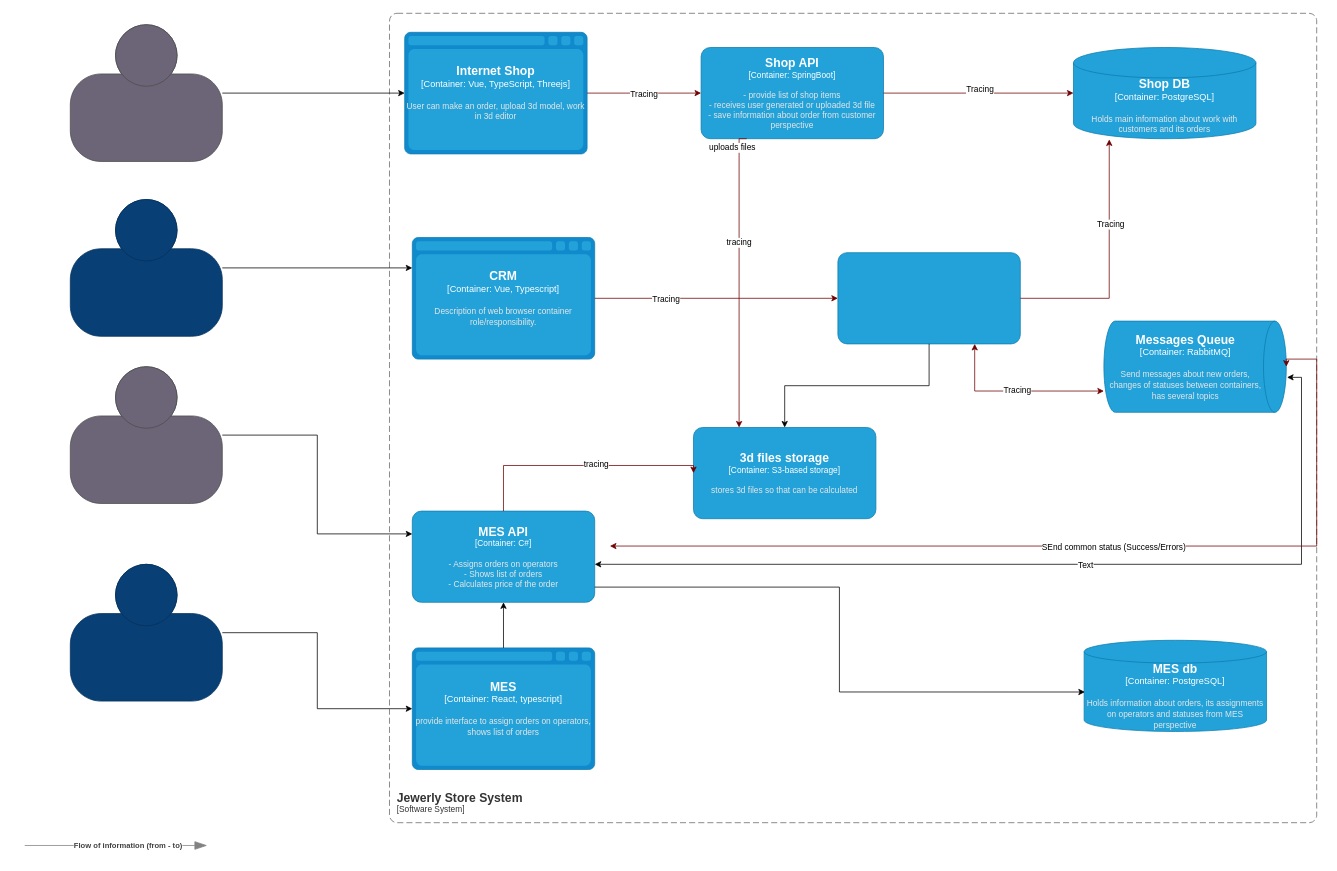
This 1337x871 diagram has some shape labels left out. The centre of each missing label's shape, as x and y in pixels:
"API user [Person] Description of external person." goes at pixel 146 435.
"CRM API [Container: SpringBoot] Description of container role/responsibility." goes at pixel 928 298.
"Customer [Person] Description of external person." goes at pixel 146 93.
"Operator [Person] Takes order in work, manufactures jewerly" goes at pixel 146 632.
"Seller [Person] Operates with order, confirms manufacturing for the user" goes at pixel 146 267.
